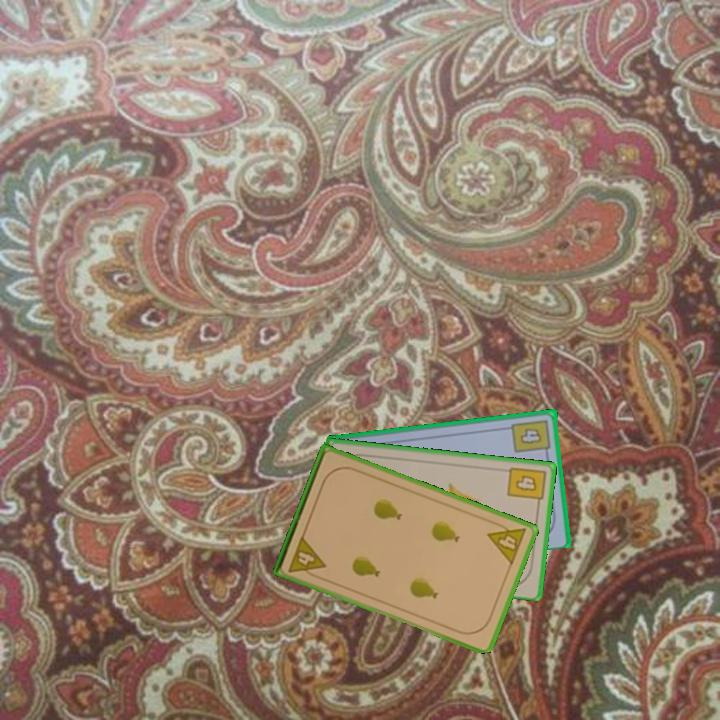4b: (504, 463, 548, 510), (509, 416, 554, 459)
4p: (484, 517, 529, 568), (285, 532, 328, 582)
